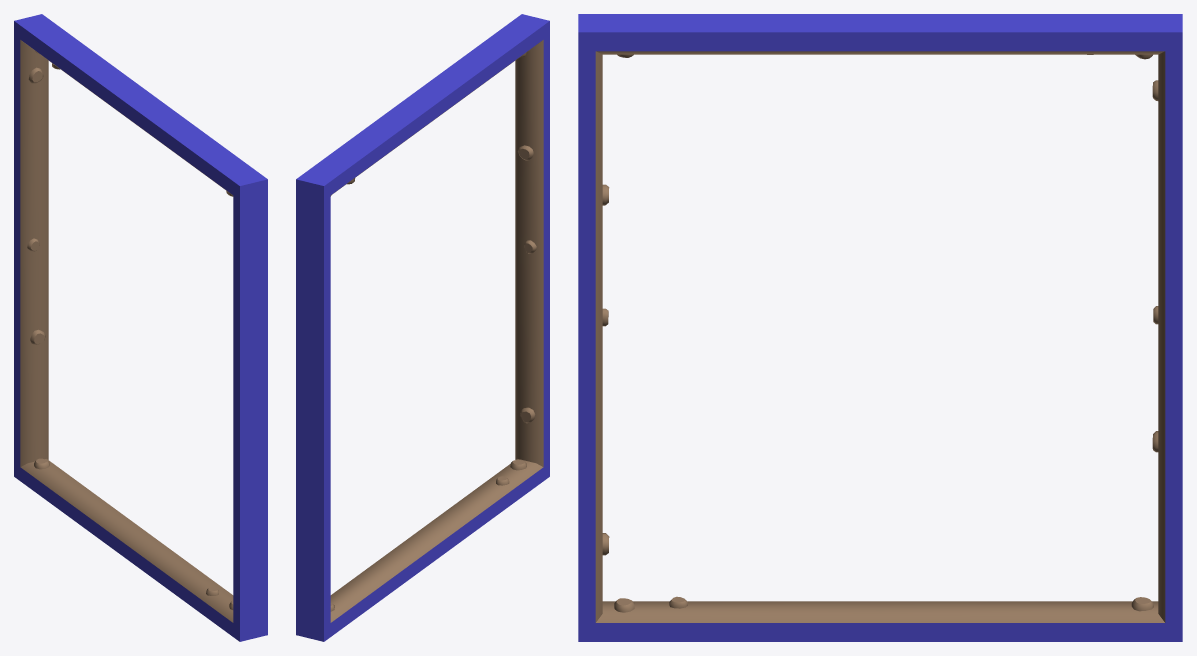
The model's file is SM_Separation_Aeration.fbx.
3 views of the same model, side by side, from view 1: azimuth 30°, elevation 25°; view 2: azimuth 150°, elevation 25°; view 3: azimuth 270°, elevation 25° (orthographic). The views are drawn at different scales.
Visible parts, largest first — view 1: SM_Separation_Aeration; view 2: SM_Separation_Aeration; view 3: SM_Separation_Aeration.
Part boxes in pixels (box(x1,y1,x2,y2)): SM_Separation_Aeration: box(14, 14, 267, 641); SM_Separation_Aeration: box(296, 14, 549, 641); SM_Separation_Aeration: box(578, 14, 1182, 641).
Bounding box in the file's own units: 25.85 × 401 × 360.
